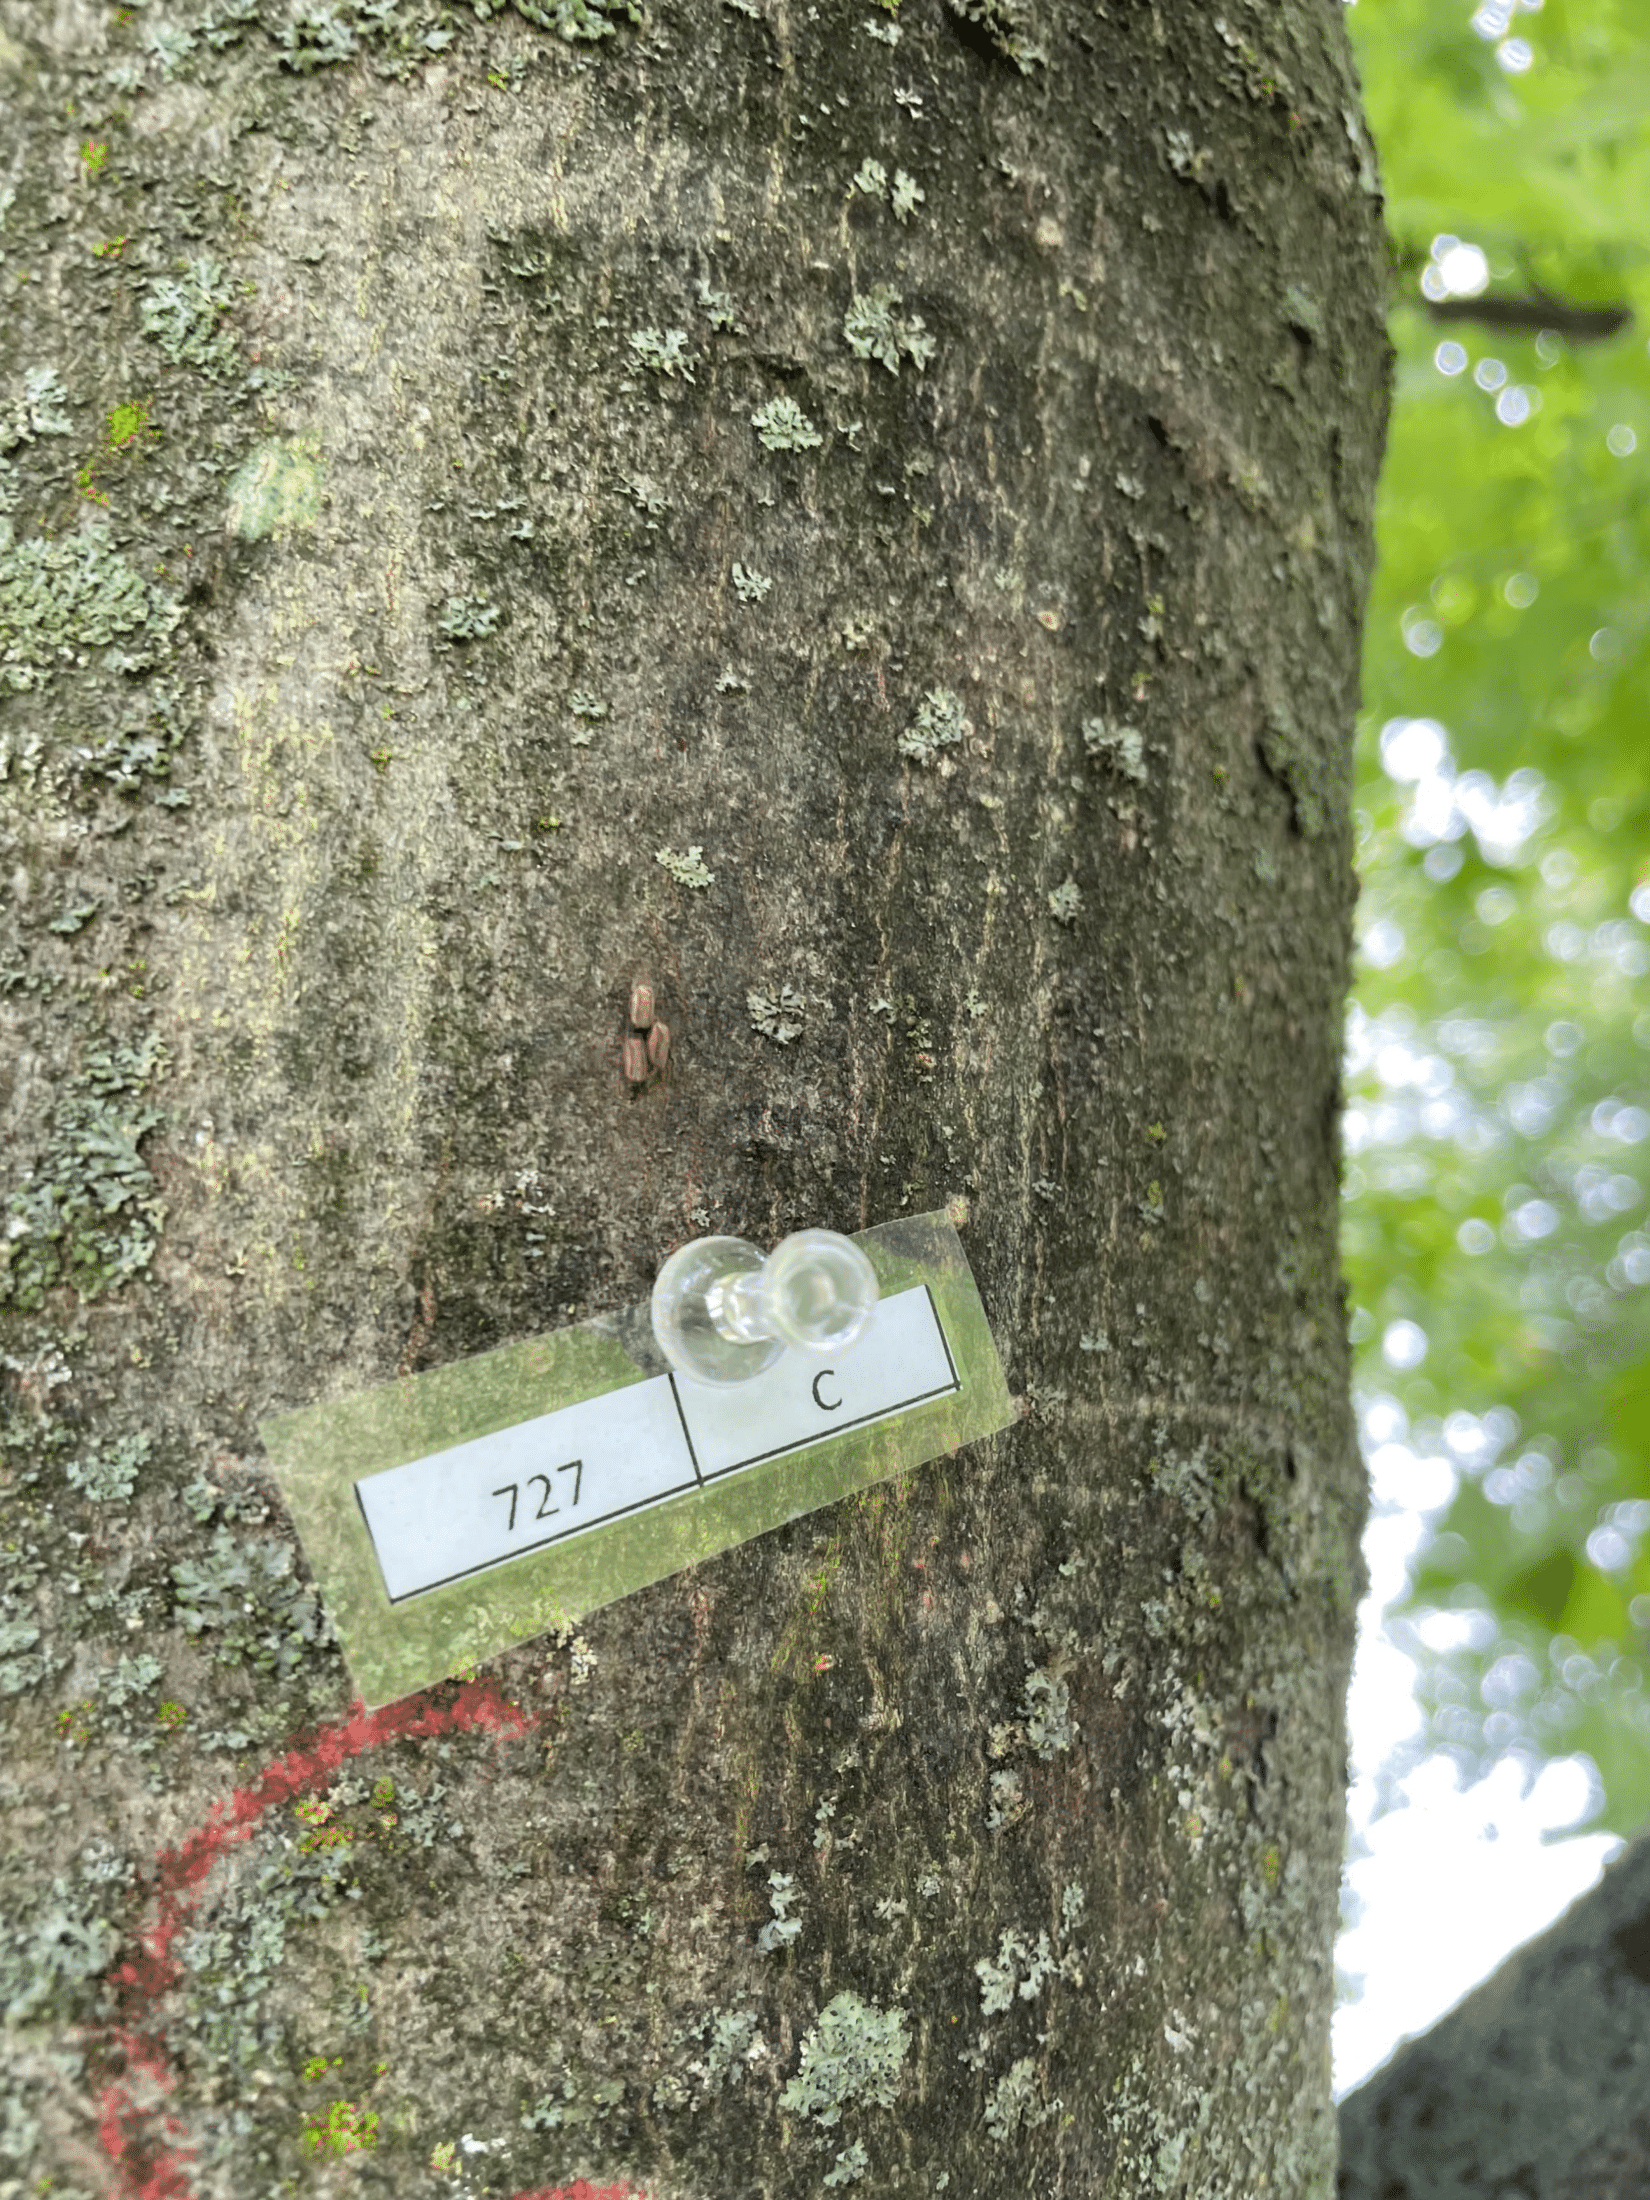egg masses: (620, 974, 667, 1093)
